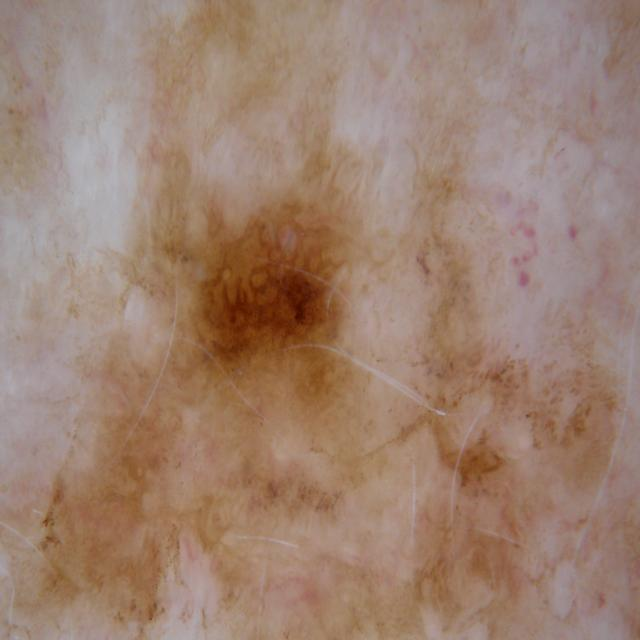Melanoma: (135, 156, 506, 639)
